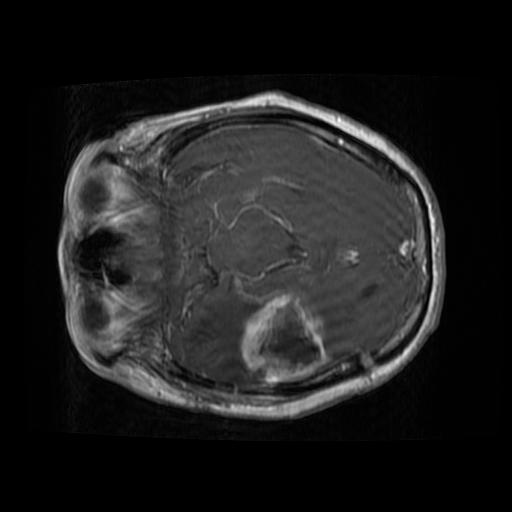glioma: (234, 293, 328, 385)
